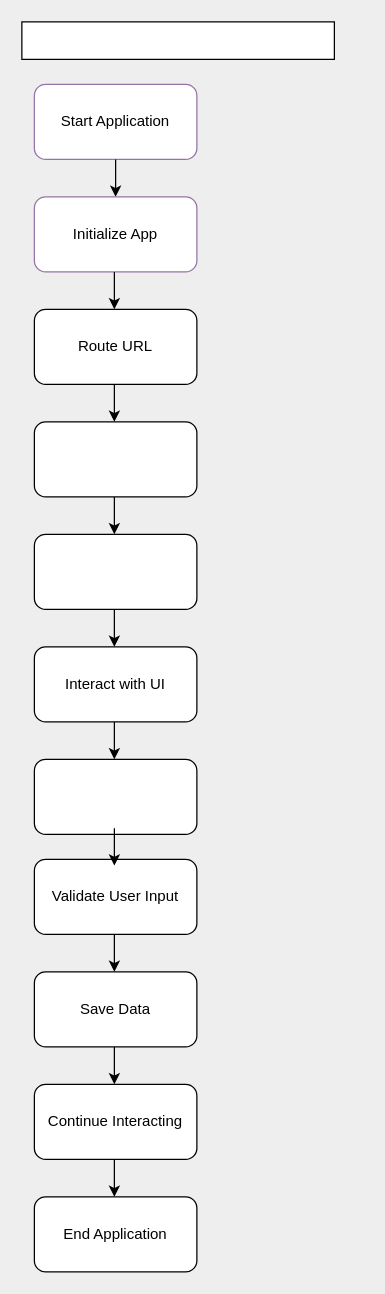
Some shapes in this 385 by 1294 pixel diagram are drawn without their labels. Each missing label, with the box of its shape:
Change Component State: (33, 758, 197, 834)
Display Component: (33, 533, 197, 609)
Flowchart Angular Versi 16: (21, 21, 334, 59)
Load Component: (33, 421, 197, 497)
